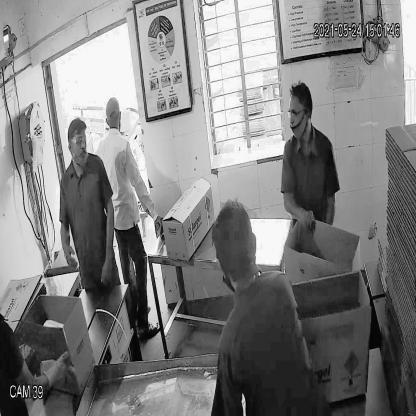goggles: (285, 104, 310, 123), (66, 132, 90, 151)
